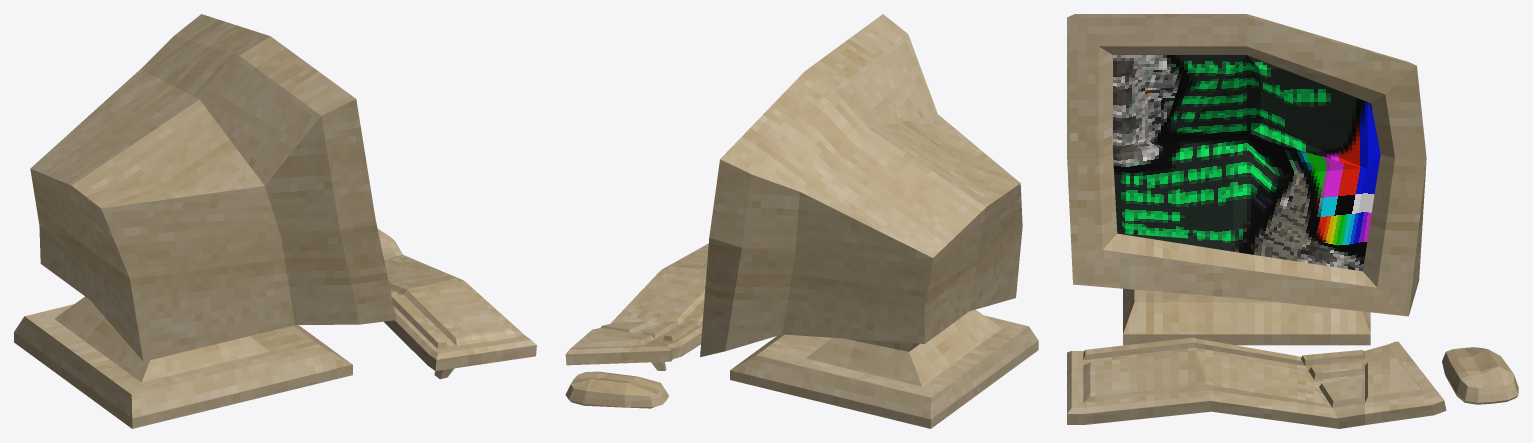
The model's file is BrokenComputer.fbx.
3 renders of one model, left to right at view 1: azimuth 30°, elevation 25°; view 2: azimuth 150°, elevation 25°; view 3: azimuth 270°, elevation 25°, orthographic. The views are drawn at different scales.
Visible parts, largest first — view 1: BrokenComputer; view 2: BrokenComputer; view 3: BrokenComputer.
Boxes of the visible parts, x1,y1,x2,y2 form: BrokenComputer: (14,14,536,428); BrokenComputer: (565,14,1038,428); BrokenComputer: (1067,14,1518,428).
Size of the model in its own units: 258 by 197 by 251.
2 materials, 2 textured.
